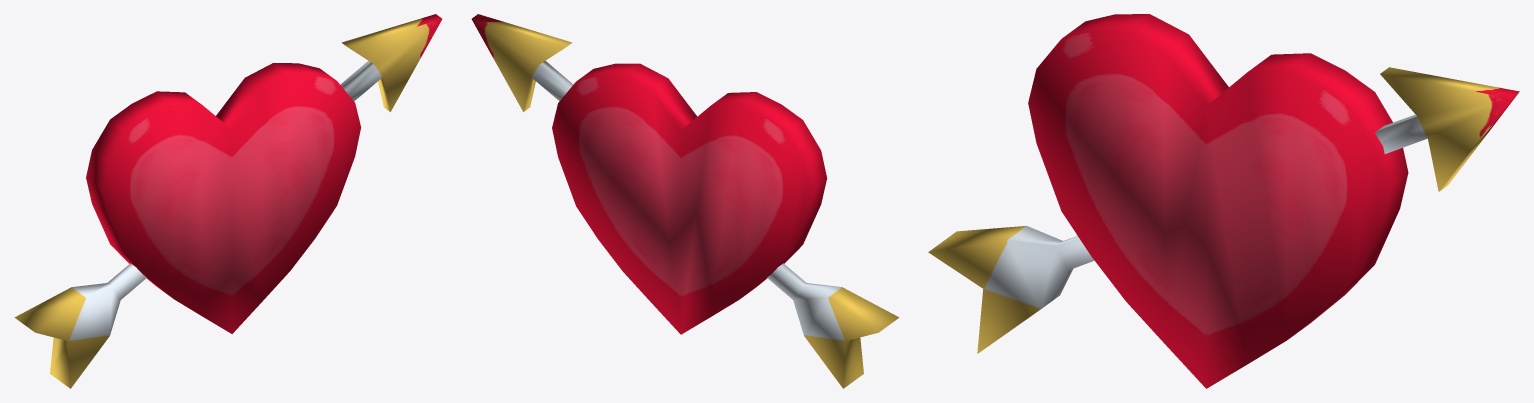
File: Heart.fbx
3 renders of one model, left to right at view 1: azimuth 30°, elevation 25°; view 2: azimuth 150°, elevation 25°; view 3: azimuth 330°, elevation 25°, orthographic. The views are drawn at different scales.
Parts seen in each view (by area): view 1: Heart; view 2: Heart; view 3: Heart.
Part boxes in pixels (<box>): Heart: <box>14,14,442,388</box>; Heart: <box>471,14,899,388</box>; Heart: <box>928,14,1519,388</box>.
Size of the model in its own units: 80.94 by 50.85 by 7.
Materials: 1 (1 with a texture image).
